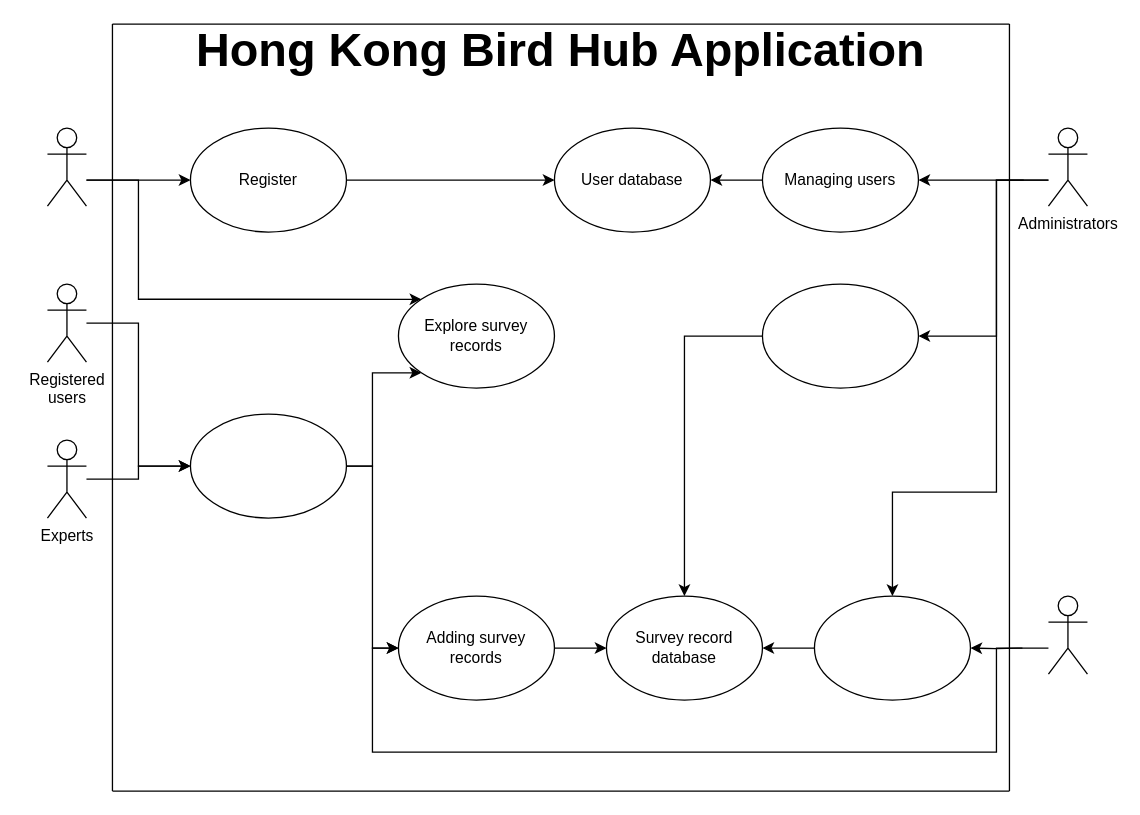
Some shapes in this 1140 by 815 pixel diagram are drawn without their labels. Each missing label, with the box of its shape:
Approving survey records: (813, 595, 970, 700)
Login: (189, 413, 346, 518)
Managing Survey records: (761, 283, 918, 388)
Moderators: (1047, 595, 1087, 674)
Unregistered users: (46, 127, 86, 206)
